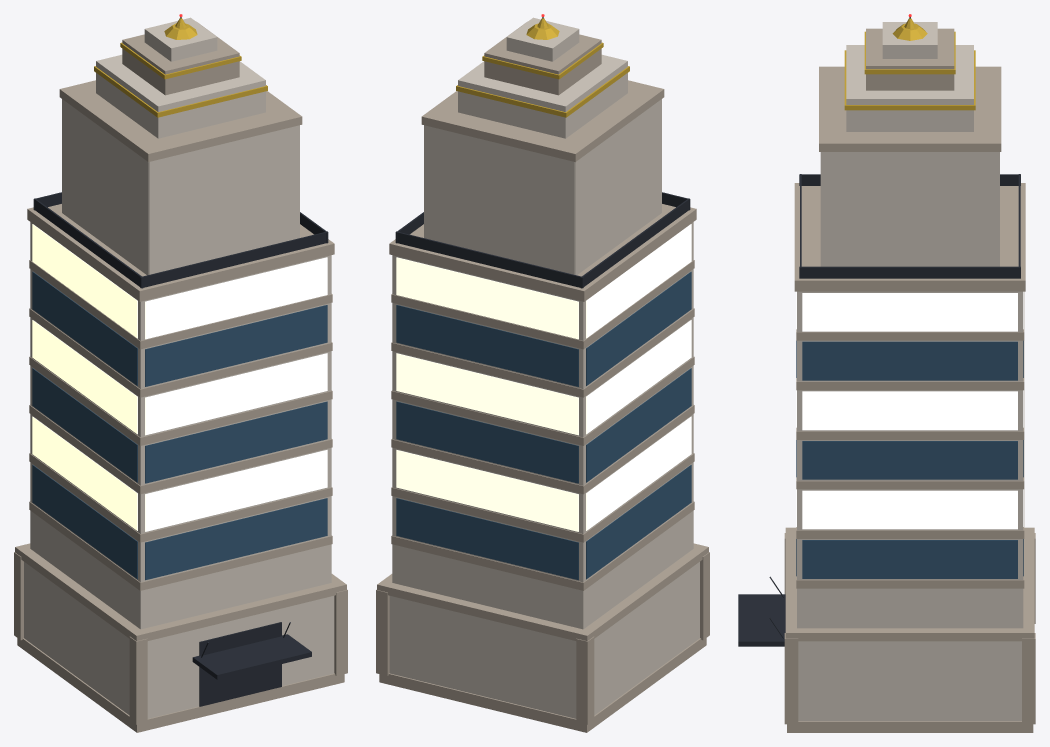
File: mega_skyscraper_a.glb
3 views of the same model, side by side, from view 1: azimuth 30°, elevation 25°; view 2: azimuth 150°, elevation 25°; view 3: azimuth 270°, elevation 25° (orthographic). The views are drawn at different scales.
Parts seen in each view (by area): view 1: mega_skyscraper_a; view 2: mega_skyscraper_a; view 3: mega_skyscraper_a.
Boxes of the visible parts, left/top/right/bottom form: mega_skyscraper_a: left=14, top=14, right=347, bottom=732; mega_skyscraper_a: left=376, top=14, right=709, bottom=732; mega_skyscraper_a: left=738, top=14, right=1035, bottom=732.
Bounding box in the file's own units: 16.5 × 48.42 × 19.55.
